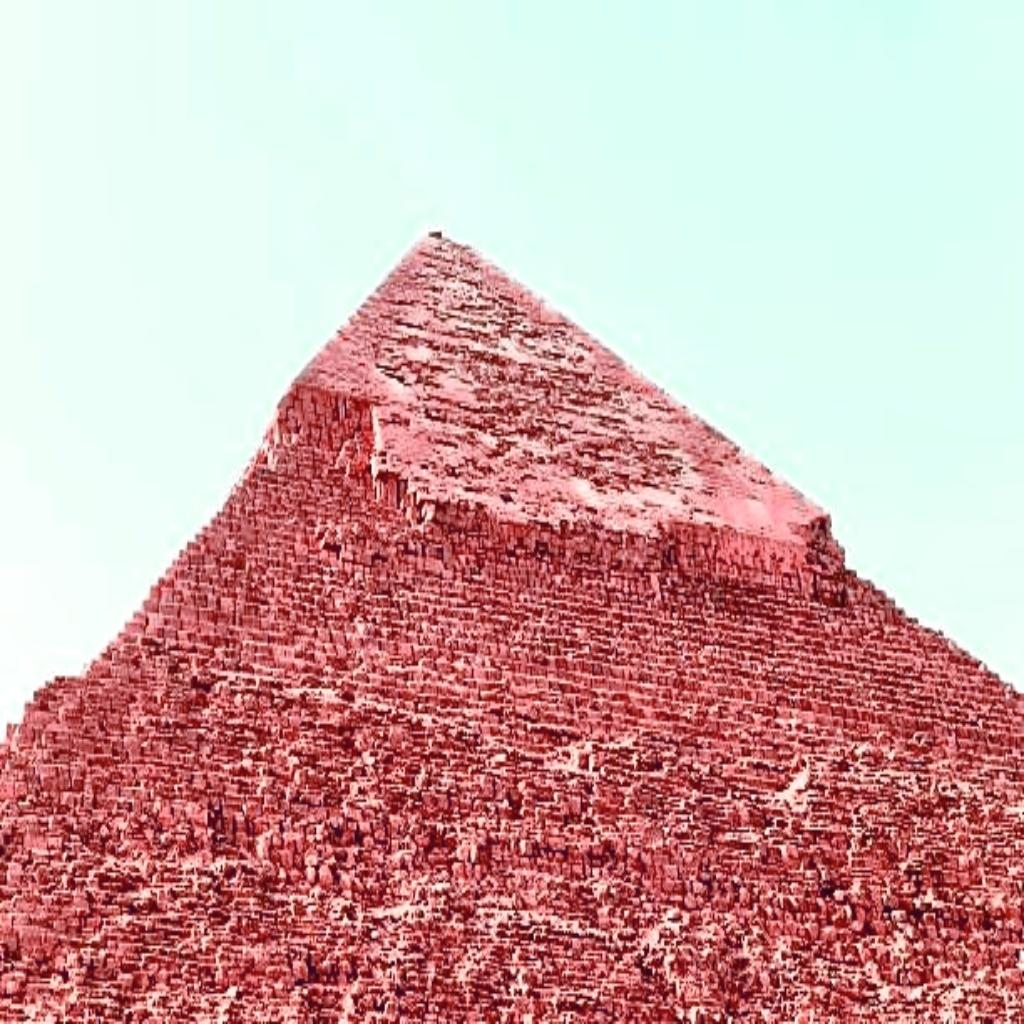Great Pyramids of Giza: (2, 222, 1019, 1019)
